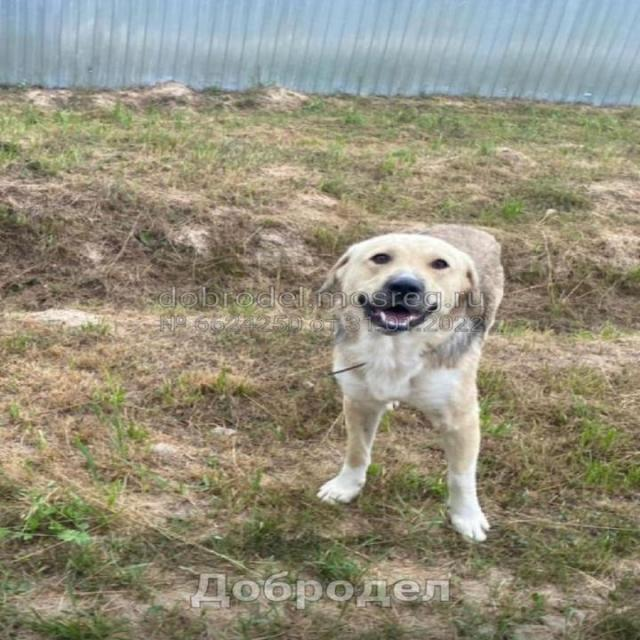dog: (314, 223, 509, 546)
